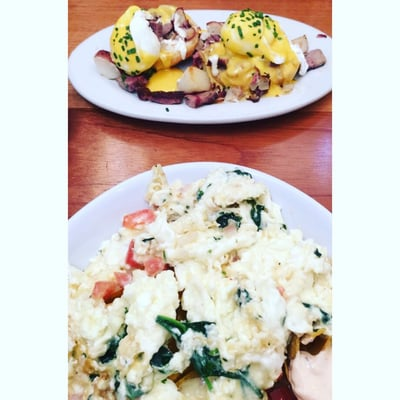curry: (66, 25, 331, 400), (67, 1, 335, 269)
sandwich: (68, 165, 332, 400)
